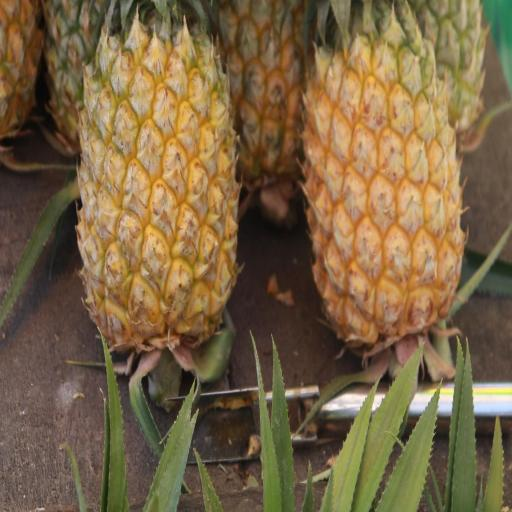Pineapple - v8 v1: (72, 0, 243, 389), (295, 14, 472, 362)
